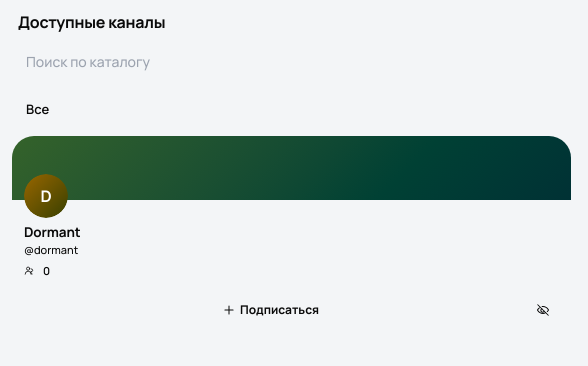
Scenario: ChannelCatalogSection › keeps the row waiting when the queued join needs channel-admin approval
Click the button "Подписаться": coordinates (270, 310) [22,294,519,326]
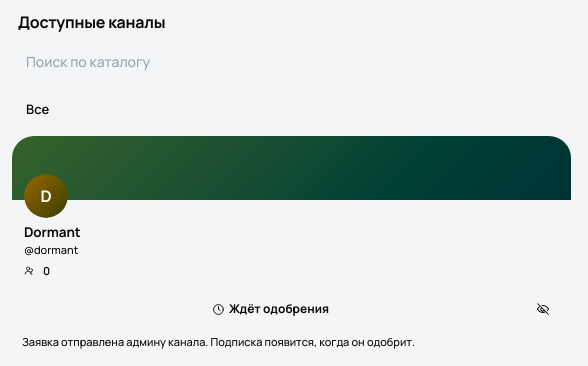
Now the text "Заявка отправлена админу канала. Подписка появится, когда он одобрит." is shown, box [22,334,415,349]
Now the button "Ждёт одобрения" is shown, box [22,294,519,325]
